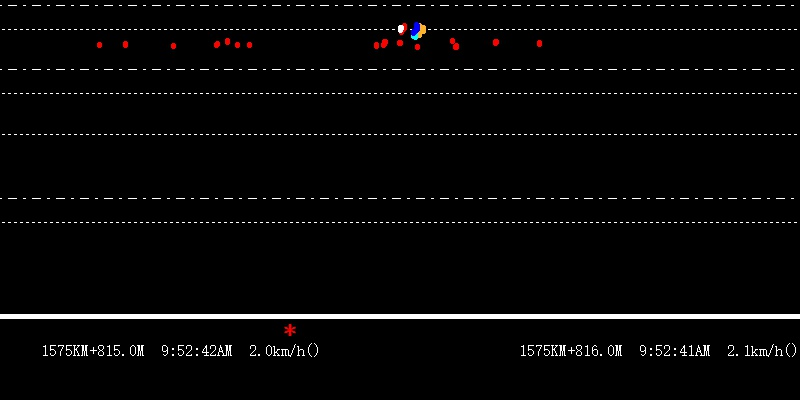face_s: (410, 21, 428, 41), (397, 21, 405, 37)
star: (280, 321, 298, 339)
